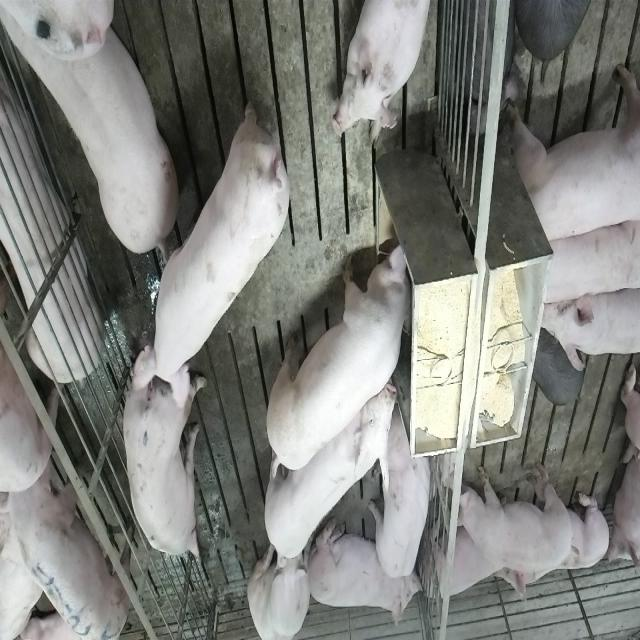Feeding: (269, 239, 422, 475)
Sitting: (248, 533, 312, 639)
Standing: (138, 90, 294, 398), (6, 7, 182, 263), (2, 431, 132, 640), (259, 370, 397, 562), (508, 57, 638, 248), (122, 361, 206, 568), (452, 463, 574, 569), (536, 212, 638, 308), (370, 418, 430, 580), (538, 286, 640, 372)
Sternal_lying: (0, 62, 101, 497), (334, 0, 435, 142), (498, 484, 608, 609), (308, 514, 422, 629), (427, 521, 503, 606)
